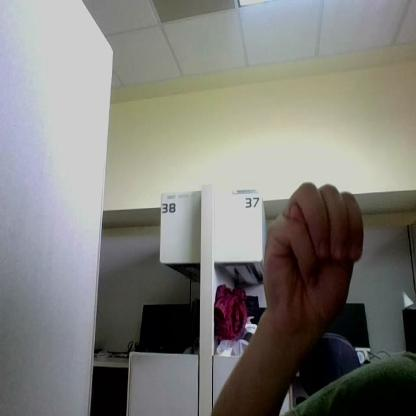M: (264, 182, 364, 328)
